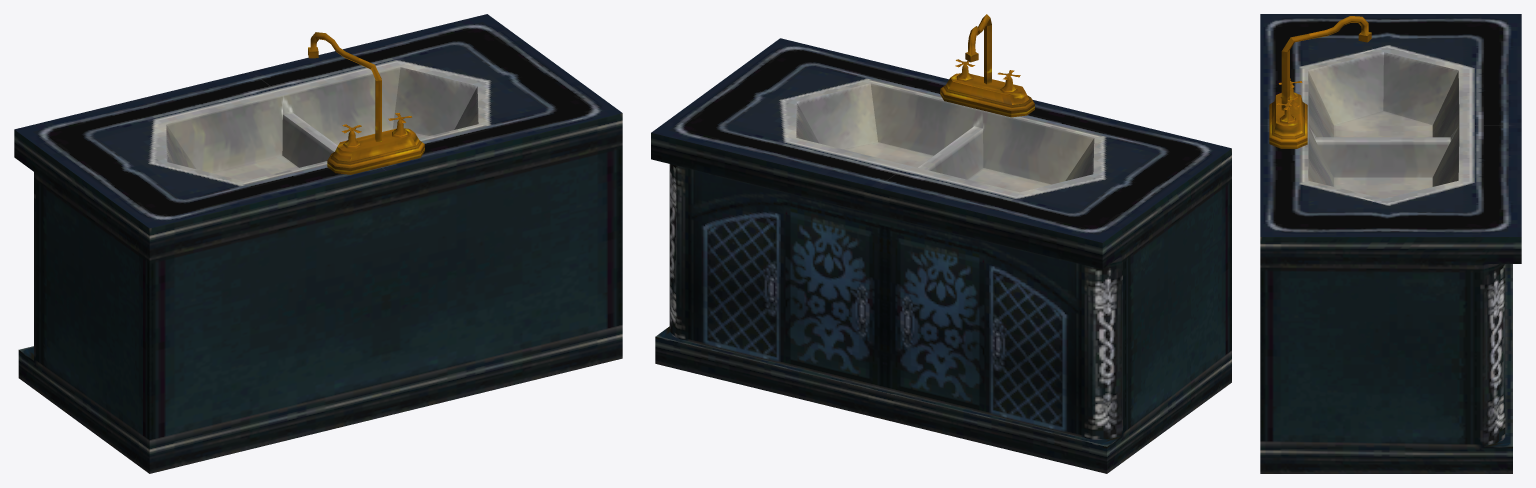
Rendered from furni_0201225_01.FBX.
3 renders of one model, left to right at view 1: azimuth 30°, elevation 25°; view 2: azimuth 150°, elevation 25°; view 3: azimuth 270°, elevation 25°, orthographic. The views are drawn at different scales.
Visible parts, largest first — view 1: furni_0201225_01; view 2: furni_0201225_01; view 3: furni_0201225_01.
Boxes of the visible parts, x1,y1,x2,y2 form: furni_0201225_01: [14, 14, 622, 473]; furni_0201225_01: [651, 14, 1231, 473]; furni_0201225_01: [1260, 14, 1521, 473].
Size of the model in its own units: 161 by 115 by 80.
